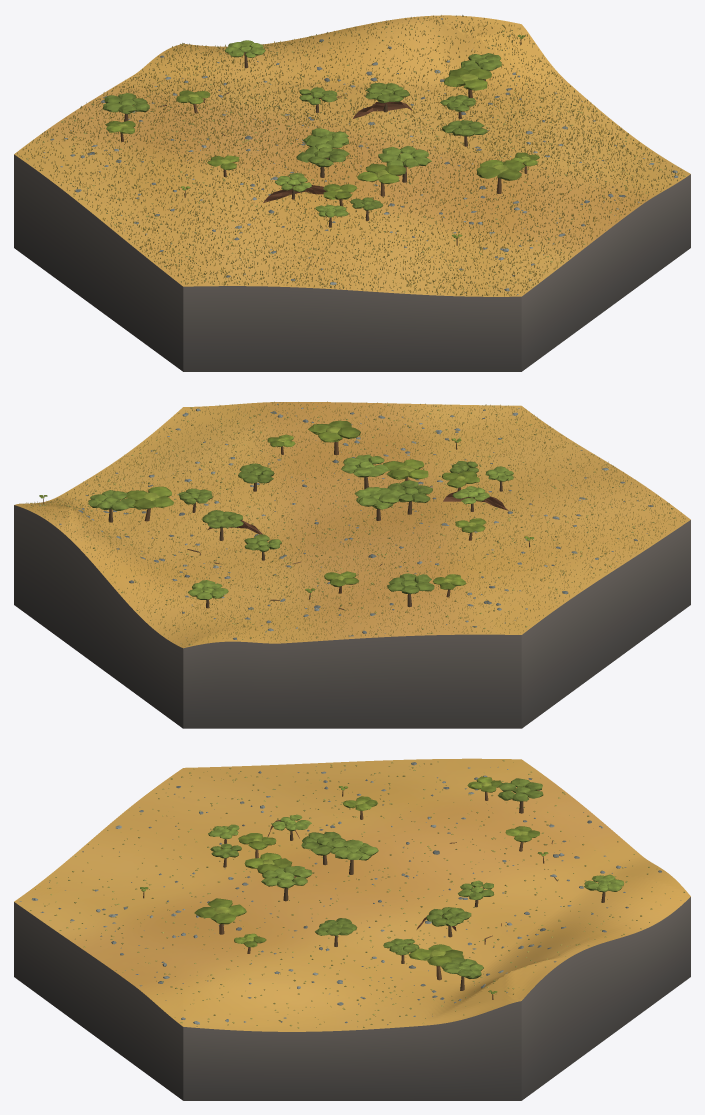
3 views of the same model, one above another, from view 1: azimuth 30°, elevation 25°; view 2: azimuth 150°, elevation 25°; view 3: azimuth 270°, elevation 25° (orthographic).
Parts seen in each view (by area): view 1: terrain, hex_side_cut, wildflowers, broadleaf_canopy, shrubs, boulders, trunks, rock_escarpments; view 2: terrain, hex_side_cut, wildflowers, broadleaf_canopy, shrubs, boulders, trunks; view 3: terrain, hex_side_cut, broadleaf_canopy, shrubs, boulders, trunks.
Part boxes in pixels (box(x1,y1,x2,y2)): terrain: box(14, 15, 690, 296); hex_side_cut: box(14, 154, 690, 371); wildflowers: box(17, 15, 682, 296); broadleaf_canopy: box(102, 35, 539, 238); shrubs: box(25, 18, 685, 294); boulders: box(43, 18, 678, 294); trunks: box(120, 39, 527, 245); rock_escarpments: box(263, 101, 412, 202); terrain: box(14, 402, 690, 648); hex_side_cut: box(14, 505, 690, 728); wildflowers: box(20, 401, 685, 646); broadleaf_canopy: box(39, 420, 533, 599); shrubs: box(30, 403, 682, 644); boulders: box(40, 403, 653, 643); trunks: box(43, 442, 530, 608); terrain: box(14, 758, 690, 1031); hex_side_cut: box(14, 897, 690, 1100); broadleaf_canopy: box(140, 776, 623, 993); shrubs: box(30, 760, 685, 1028); boulders: box(19, 762, 681, 1026); trunks: box(143, 790, 605, 999).
Bounding box in the file's own units: 4330 × 987 × 5000.
